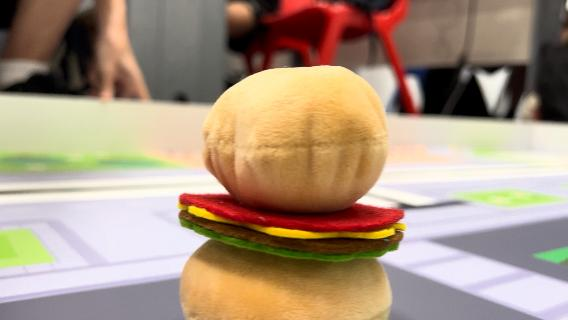burger: (174, 61, 410, 320)
